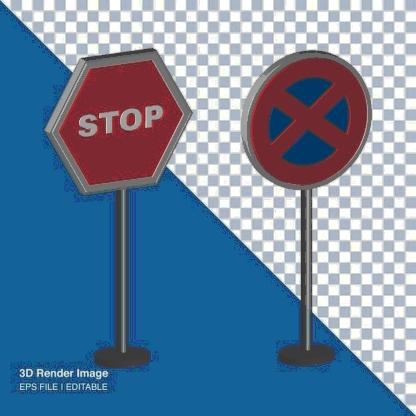No stopping: (250, 50, 374, 188)
